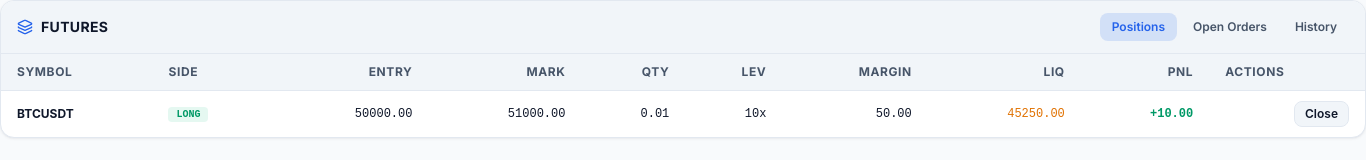
PositionsPanel › switches to open orders tab
Expected: the row with test id "position-row" is shown, [1,90,1365,137]
Click the tab "Open Orders".
click(1230, 27)  # box [1181,13,1279,41]
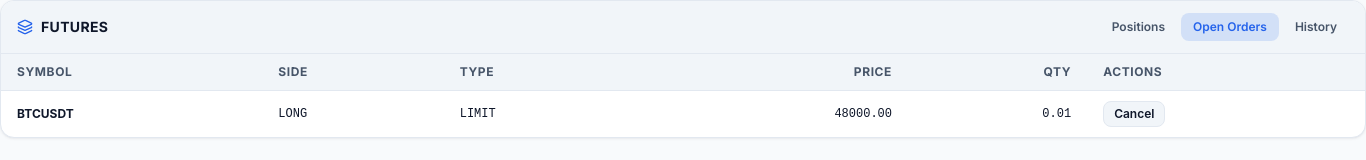
Expected: the row with test id "order-row" is shown, [1,90,1365,137]
Expected: the text "LIMIT" is shown, [444,90,644,137]
